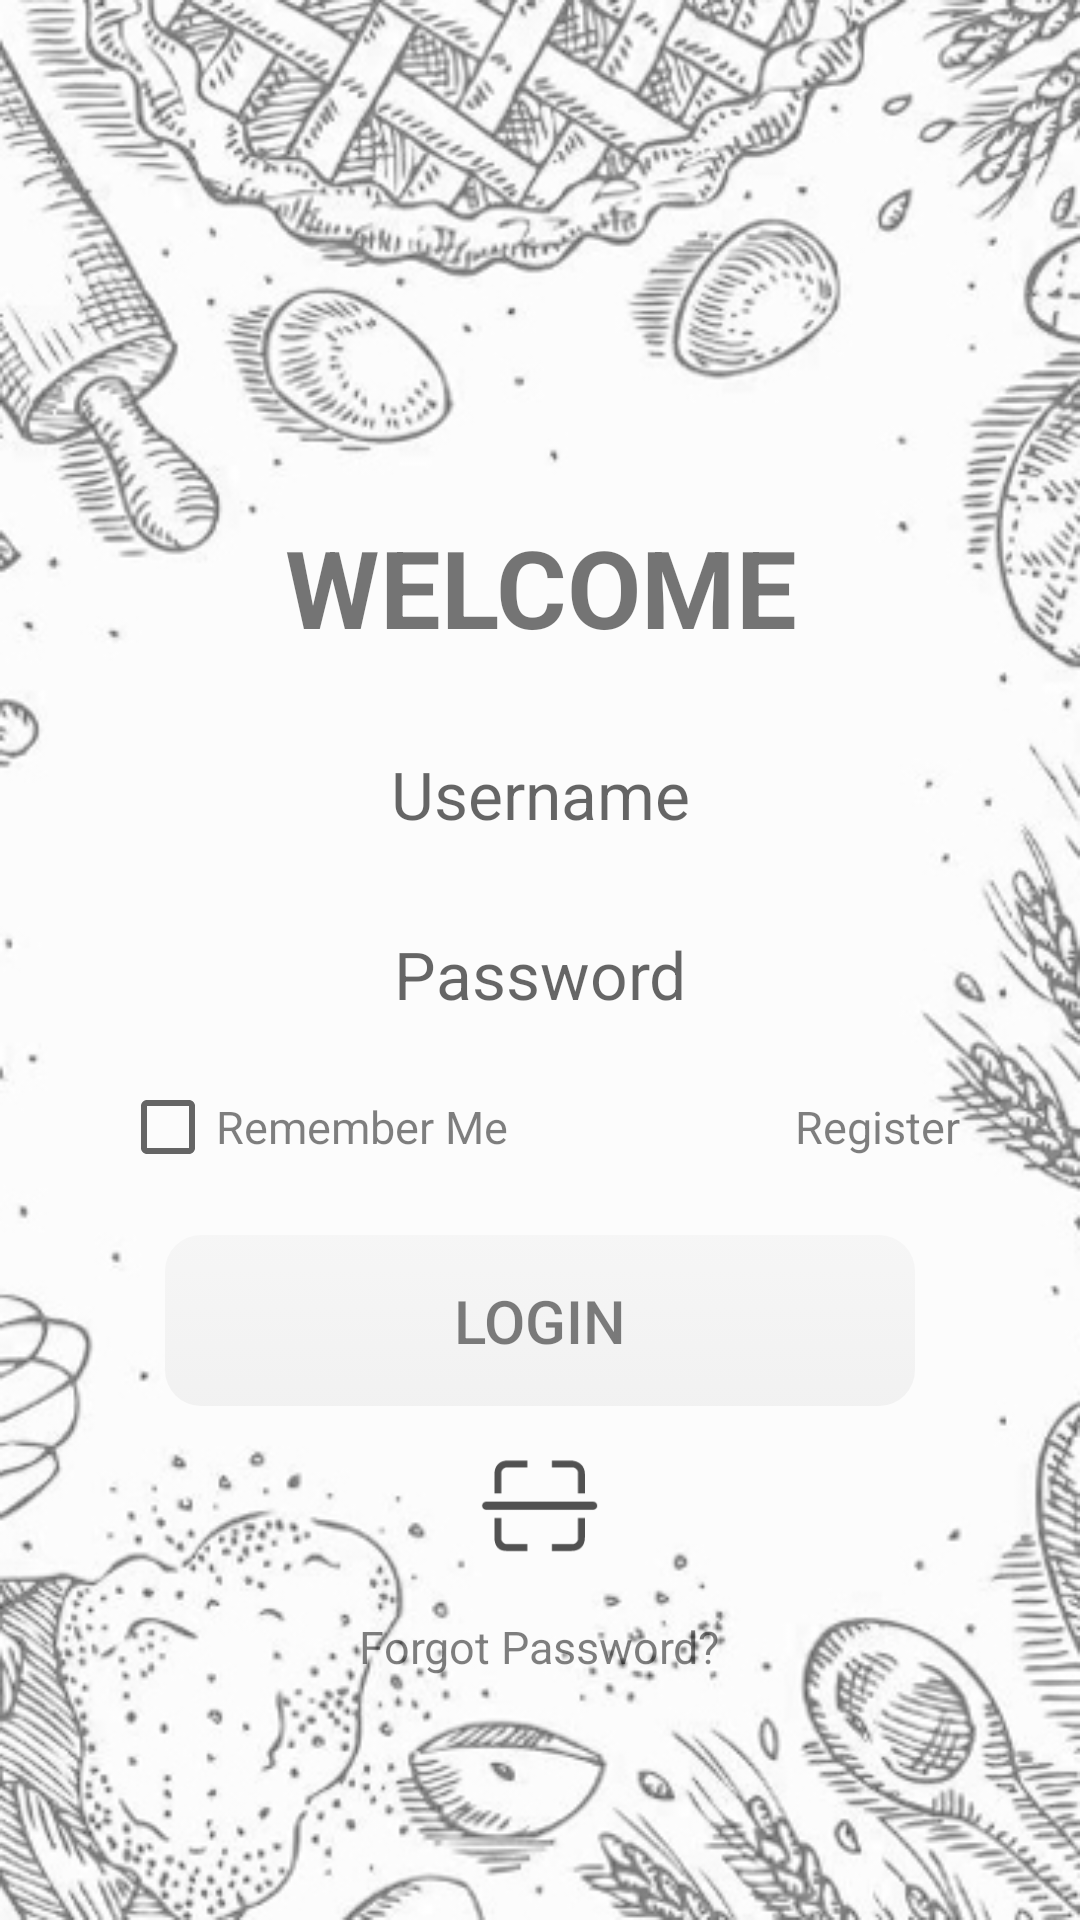

Named icons in this screenshot (1080w x 1920h) and their centers, (x,y):
scan: (540,1506)
